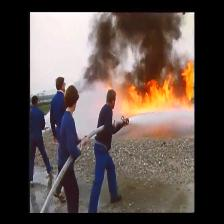fire: (126, 75, 193, 105)
smoke: (123, 12, 181, 67), (95, 18, 116, 77)
